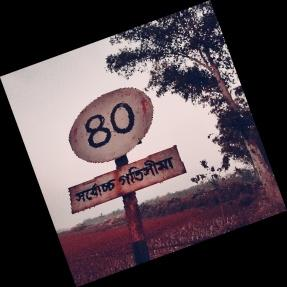Speed-limit: (67, 86, 183, 213)
